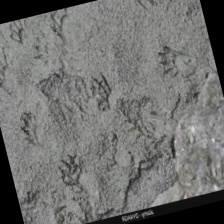raccoon: (154, 40, 197, 83), (0, 43, 28, 102)
